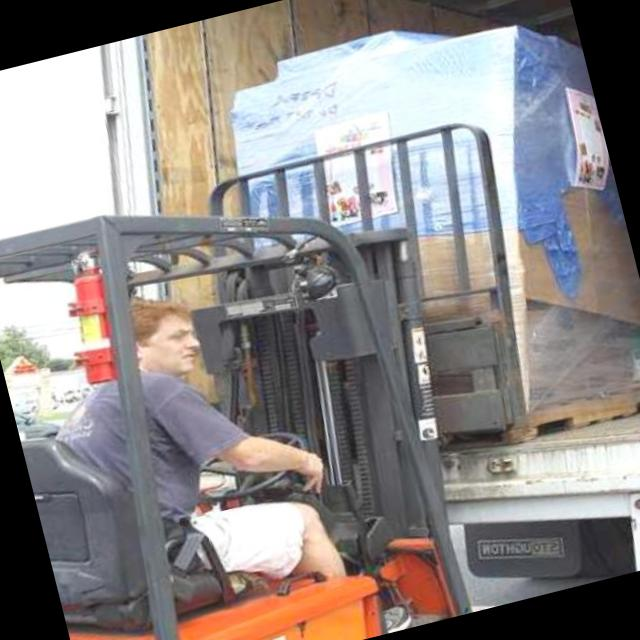driver: (5, 242, 384, 640)
forklift: (0, 79, 599, 640)
